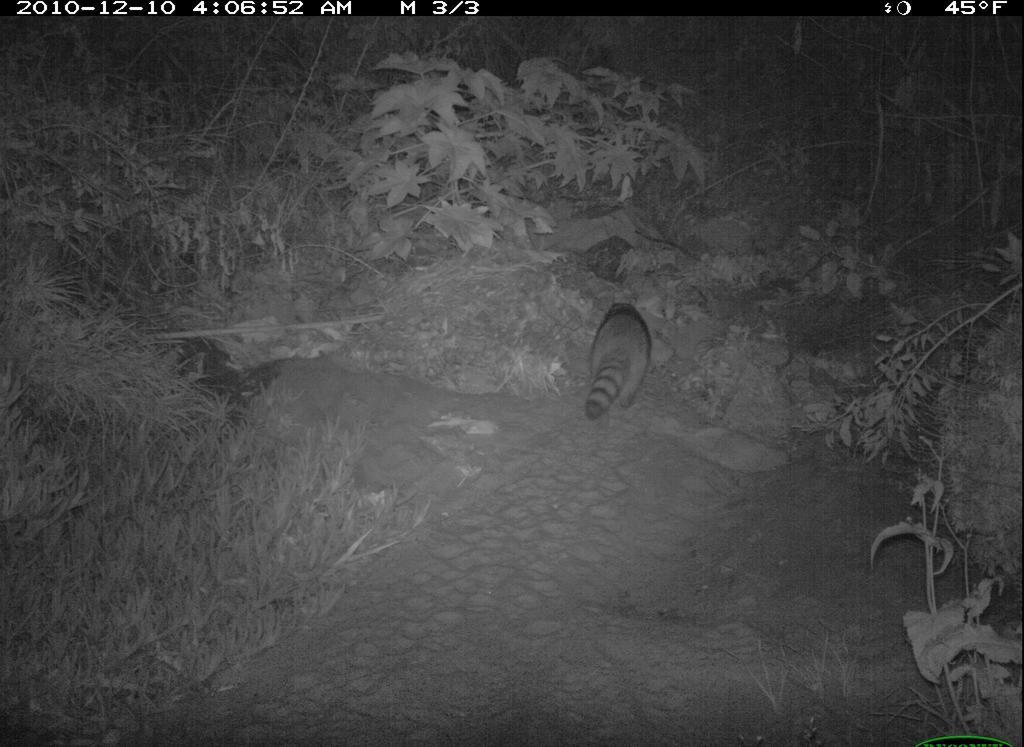raccoon: (565, 289, 669, 434)
